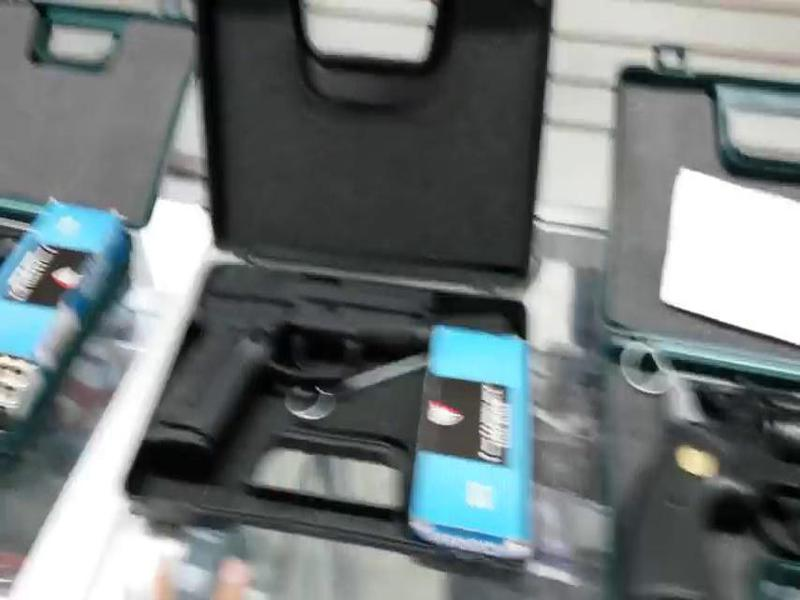Pistola: (137, 256, 455, 484)
